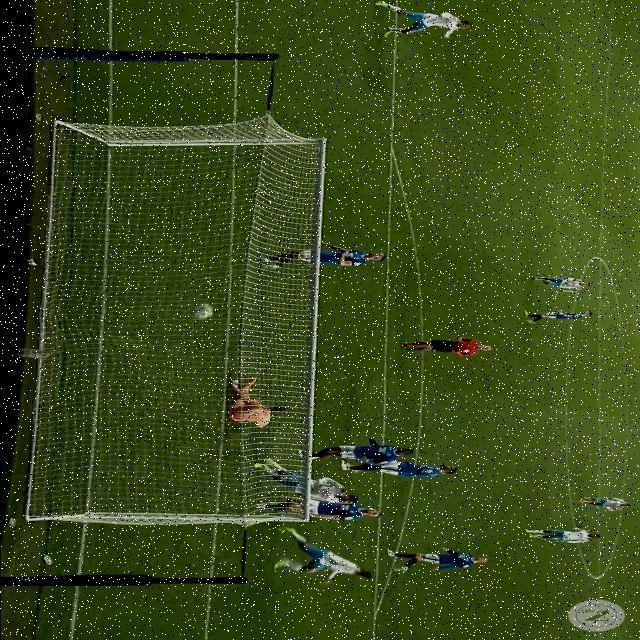ball: (176, 297, 226, 327)
goalkeeper: (209, 379, 297, 435)
player: (259, 458, 367, 510), (251, 487, 383, 529), (257, 550, 369, 592), (349, 7, 481, 39), (246, 245, 396, 273), (376, 540, 492, 575), (341, 454, 467, 484), (294, 439, 420, 463), (524, 266, 595, 298), (563, 492, 637, 514), (514, 528, 608, 544), (515, 308, 598, 326)
referee: (385, 338, 497, 360)
